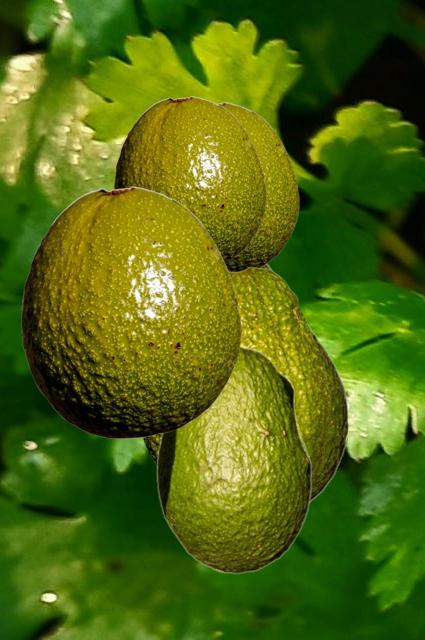avocado: (21, 186, 240, 437), (142, 266, 329, 474), (156, 345, 311, 573), (114, 96, 265, 262), (262, 263, 348, 502), (217, 102, 298, 270)
